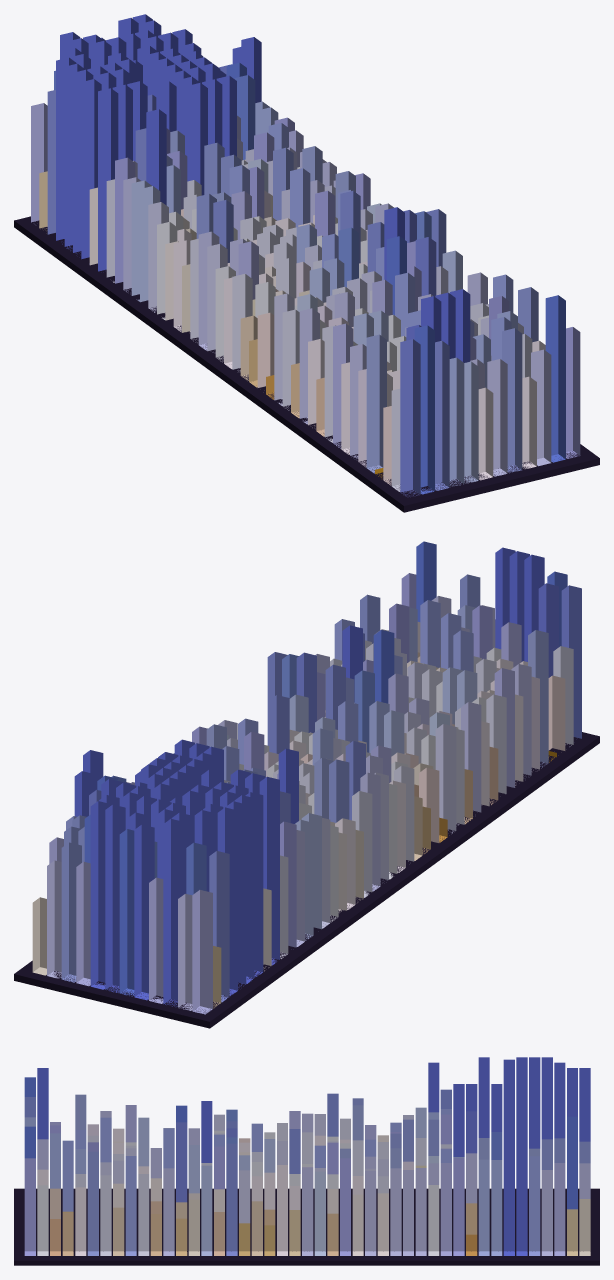
The model's file is himalaya.glb.
3 views of the same model, one above another, from view 1: azimuth 30°, elevation 25°; view 2: azimuth 150°, elevation 25°; view 3: azimuth 270°, elevation 25° (orthographic). The views are drawn at different scales.
Visible parts, largest first — view 1: g11, base, g6, g9, g5, g8, g2, g1, g7, g4, g33, g18 (+13 smaller); view 2: g11, base, g6, g18, g9, g2, g1, g26, g7, g4, g33, g5 (+13 smaller); view 3: g11, base, g6, g26, g8, g9, g5, g3, g7, g4, g18, g2 (+18 smaller).
Boxes of the visible parts, <box> form: g11: <box>56,14,470,362</box>; base: <box>14,216,599,512</box>; g6: <box>123,138,551,476</box>; g9: <box>106,160,532,491</box>; g5: <box>173,215,545,480</box>; g8: <box>115,117,580,458</box>; g2: <box>47,90,449,490</box>; g1: <box>226,62,565,494</box>; g7: <box>196,142,538,473</box>; g4: <box>131,180,478,483</box>; g33: <box>148,149,523,405</box>; g18: <box>31,103,392,448</box>; g11: <box>74,547,544,1006</box>; base: <box>14,732,599,1028</box>; g6: <box>47,596,531,1010</box>; g18: <box>49,622,521,1014</box>; g9: <box>264,630,573,958</box>; g2: <box>209,652,365,1002</box>; g1: <box>84,541,567,996</box>; g26: <box>66,600,473,829</box>; g7: <box>61,574,480,982</box>; g4: <box>289,667,477,940</box>; g33: <box>224,629,456,928</box>; g5: <box>289,622,527,909</box>; g11: <box>37,1057,590,1255</box>; base: <box>14,1188,599,1265</box>; g6: <box>37,1111,590,1255</box>; g26: <box>62,1109,540,1255</box>; g8: <box>24,1114,464,1255</box>; g9: <box>75,1118,451,1255</box>; g5: <box>37,1128,363,1255</box>; g3: <box>24,1112,502,1255</box>; g7: <box>87,1098,590,1255</box>; g4: <box>138,1107,426,1255</box>; g18: <box>50,1105,565,1255</box>; g2: <box>24,1089,451,1255</box>.
Size of the model in its own units: 0.182 by 0.166 by 0.6275.
